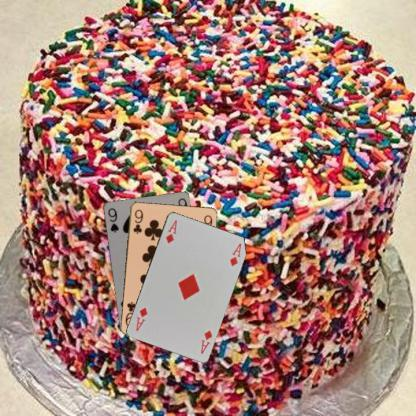9c: (130, 207, 144, 235)
9s: (105, 205, 120, 234)
Ad: (163, 218, 178, 245), (198, 327, 213, 354)
